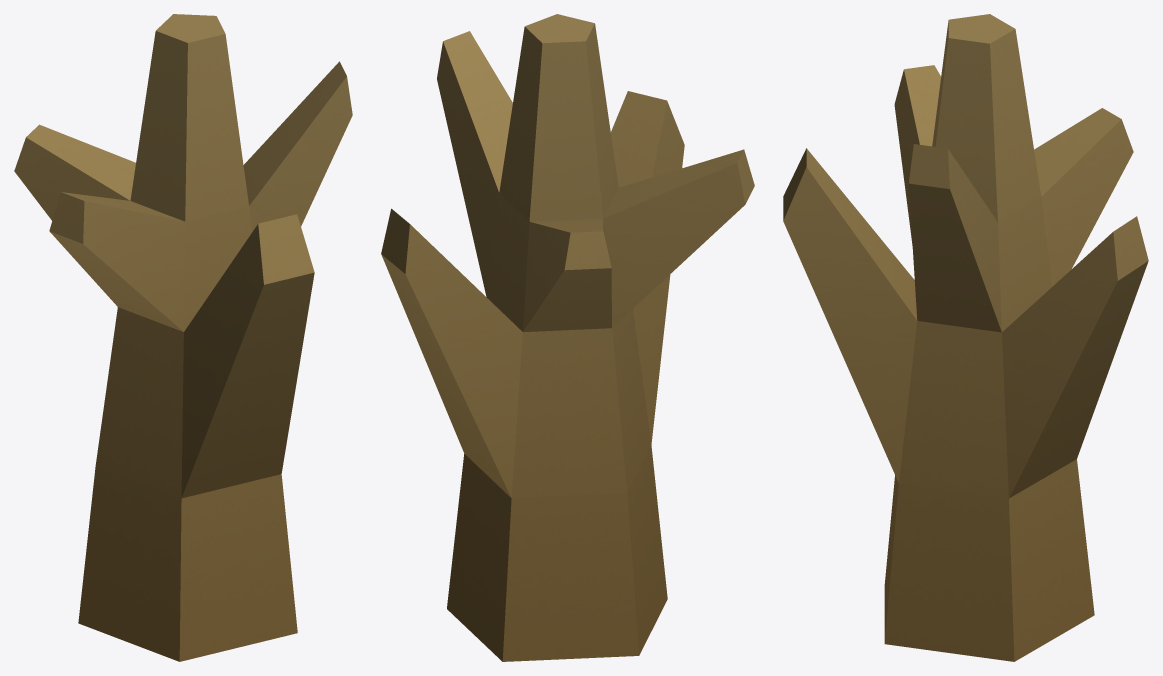
File: tree_trunk0.glb
The picture shows the model from 3 angles, left to right: view 1: azimuth 30°, elevation 25°; view 2: azimuth 150°, elevation 25°; view 3: azimuth 270°, elevation 25°; orthographic projection.
Parts seen in each view (by area): view 1: AppleTree; view 2: AppleTree; view 3: AppleTree.
Boxes of the visible parts, x1,y1,x2,y2 form: AppleTree: (14,14,352,661); AppleTree: (381,14,754,661); AppleTree: (783,14,1148,661).
Bounding box in the file's own units: 2.21 × 4.12 × 2.32.
Materials: 1 (1 with a texture image).
